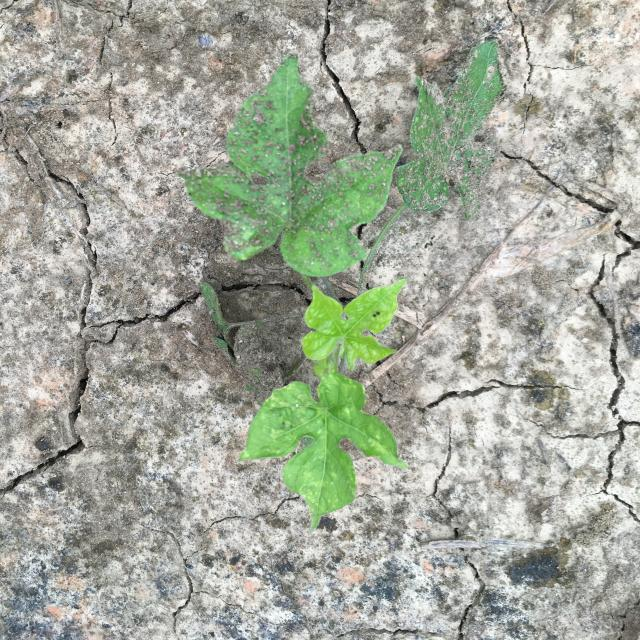MorningGlory: (176, 40, 504, 530)
